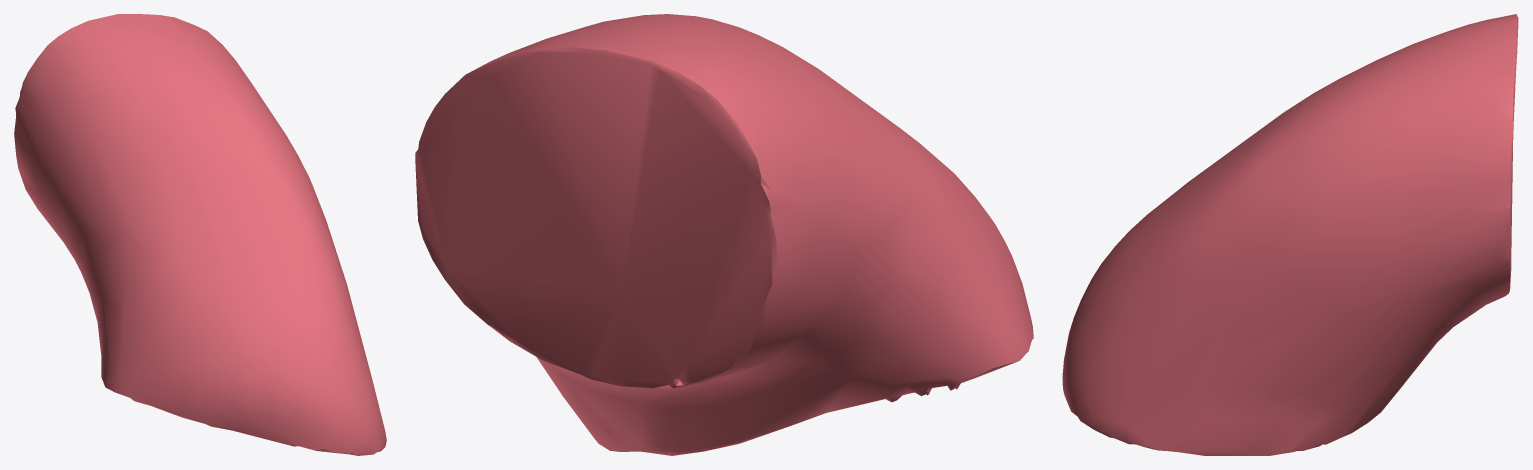
The model's file is fma8615_fj6036.glb.
The picture shows the model from 3 angles, left to right: view 1: azimuth 30°, elevation 25°; view 2: azimuth 150°, elevation 25°; view 3: azimuth 270°, elevation 25°; orthographic projection. The views are drawn at different scales.
Visible parts, largest first — view 1: FMA8615_FJ6036; view 2: FMA8615_FJ6036; view 3: FMA8615_FJ6036.
Boxes of the visible parts, x1,y1,x2,y2 form: FMA8615_FJ6036: (14, 14, 386, 455); FMA8615_FJ6036: (415, 14, 1033, 455); FMA8615_FJ6036: (1062, 14, 1518, 455).
Bounding box in the file's own units: 0.0308 × 0.0371 × 0.0424.
